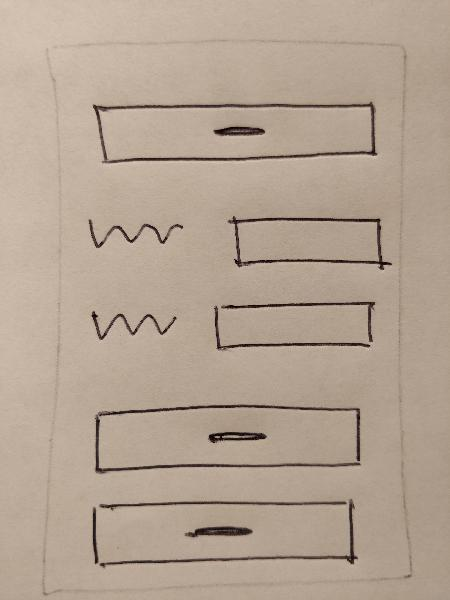button: (88, 94, 382, 181), (91, 397, 365, 480), (83, 497, 365, 572)
text: (83, 203, 189, 255), (87, 300, 183, 348)
text_input: (221, 208, 393, 277), (205, 295, 383, 355)
